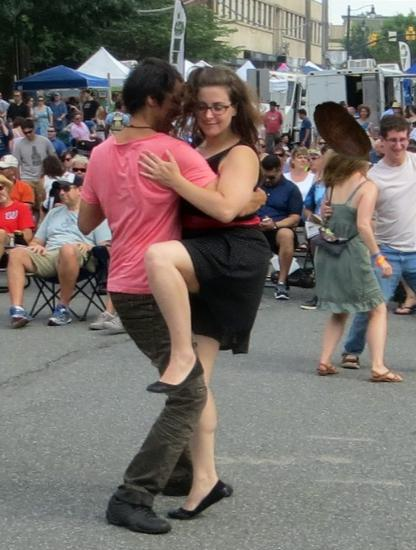Nut: (305, 95, 382, 172)
